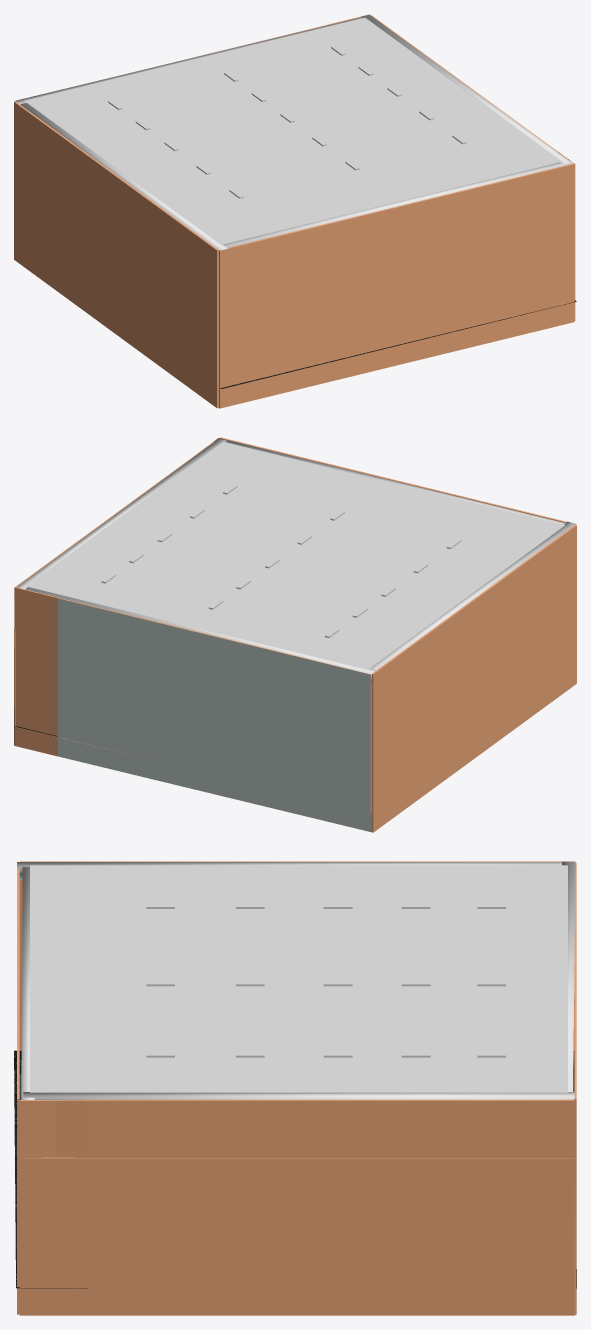
The model's file is GymRoom.fbx.
The picture shows the model from 3 angles, top to bottom: view 1: azimuth 30°, elevation 25°; view 2: azimuth 150°, elevation 25°; view 3: azimuth 270°, elevation 25°; orthographic projection. The views are drawn at different scales.
Visible parts, largest first — view 1: Floor, Plane, Cube Lamp.002, Cube Lamp, Cube Lamp.003, Cube Lamp.001, Blanket; view 2: Floor, Plane, Cube Lamp, Cube Lamp.001, Cube Lamp.003, Cube Lamp.002; view 3: Floor, Plane, Cube Lamp.003, Cube Lamp, Cube Lamp.002, Cube Lamp.001, Blanket.
Boxes of the visible parts, bbox=[...] form: Floor: bbox=[14, 14, 575, 408]; Plane: bbox=[24, 17, 561, 244]; Cube Lamp.002: bbox=[223, 159, 573, 247]; Cube Lamp: bbox=[20, 103, 228, 250]; Cube Lamp.003: bbox=[361, 14, 570, 164]; Cube Lamp.001: bbox=[15, 17, 362, 104]; Blanket: bbox=[220, 300, 576, 388]; Floor: bbox=[14, 437, 576, 832]; Plane: bbox=[26, 441, 564, 669]; Cube Lamp: bbox=[370, 521, 575, 669]; Cube Lamp.001: bbox=[25, 587, 376, 682]; Cube Lamp.003: bbox=[16, 439, 227, 589]; Cube Lamp.002: bbox=[213, 438, 565, 524]; Floor: bbox=[17, 861, 576, 1315]; Plane: bbox=[30, 865, 567, 1092]; Cube Lamp.003: bbox=[23, 1092, 574, 1100]; Cube Lamp: bbox=[17, 862, 561, 879]; Cube Lamp.002: bbox=[21, 867, 34, 1099]; Cube Lamp.001: bbox=[562, 861, 575, 1091]; Blanket: bbox=[14, 1050, 576, 1288].
Bounding box in the file's own units: 1678 × 716 × 1670.
